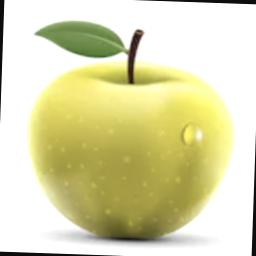Apple Unripe: (7, 0, 256, 256)
